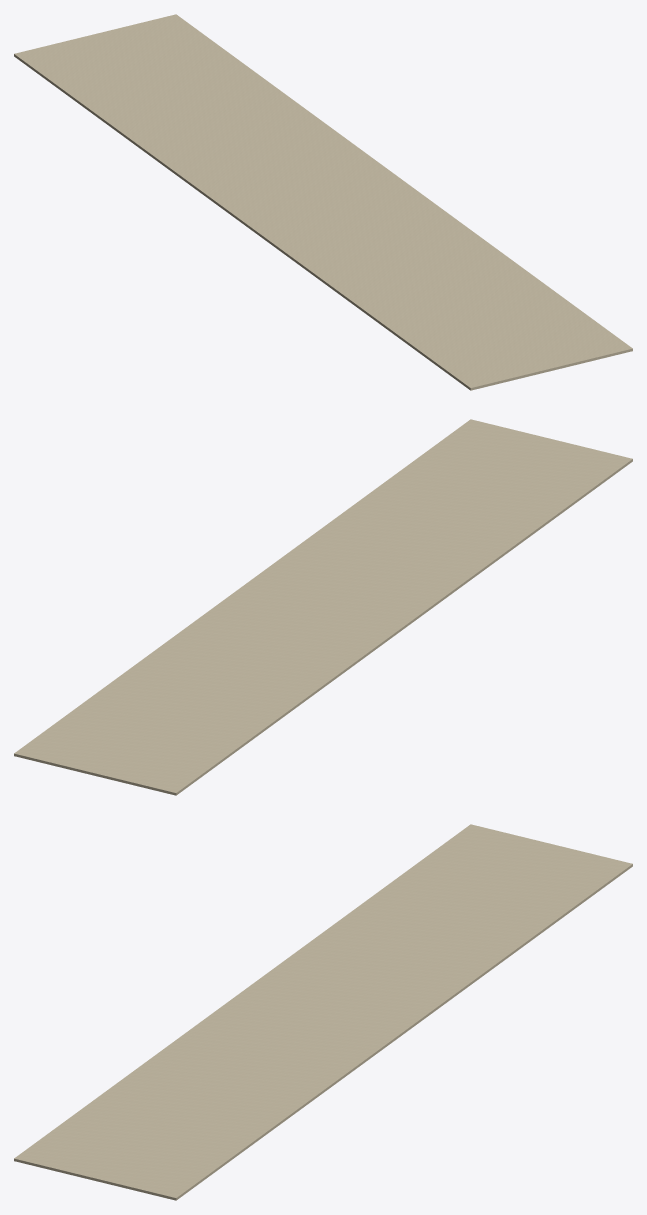
Rendered from COURT_D09_SF_01__floor.glb.
3 views of the same model, one above another, from view 1: azimuth 30°, elevation 25°; view 2: azimuth 150°, elevation 25°; view 3: azimuth 330°, elevation 25° (orthographic).
Parts seen in each view (by area): view 1: COURT_D09_SF_01__floor__warm_stone; view 2: COURT_D09_SF_01__floor__warm_stone; view 3: COURT_D09_SF_01__floor__warm_stone.
Boxes of the visible parts, x1,y1,x2,y2 form: COURT_D09_SF_01__floor__warm_stone: (14, 14, 632, 390); COURT_D09_SF_01__floor__warm_stone: (14, 419, 632, 795); COURT_D09_SF_01__floor__warm_stone: (14, 824, 632, 1200).
Bounding box in the file's own units: 16 × 0.24 × 78.
Materials: 1 (1 with a texture image).
